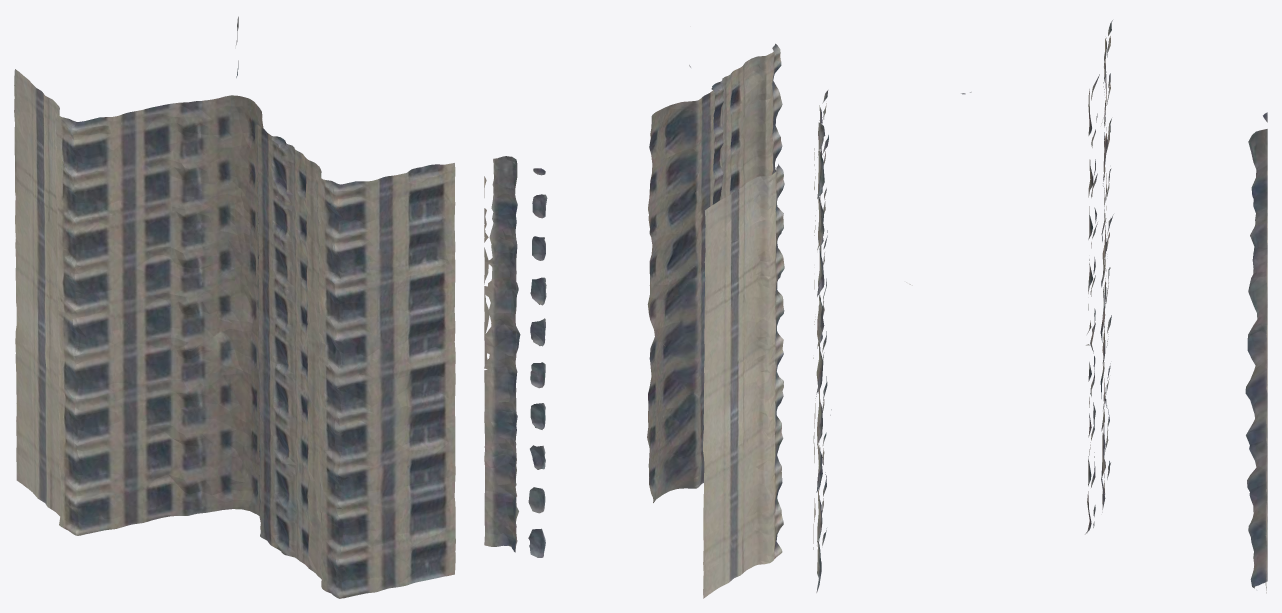
File: Tile_+003_+002_L22_00011100.glb
3 renders of one model, left to right at view 1: azimuth 30°, elevation 25°; view 2: azimuth 150°, elevation 25°; view 3: azimuth 270°, elevation 25°, orthographic. The views are drawn at different scales.
Visible parts, largest first — view 1: rtc; view 2: rtc; view 3: rtc.
Part boxes in pixels (x1,y1,x2,y2): rtc: (14,16,455,598); rtc: (484,43,784,598); rtc: (813,20,1267,593).
Bounding box in the file's own units: 12.84 × 20.31 × 18.51.
Materials: 1 (1 with a texture image).
